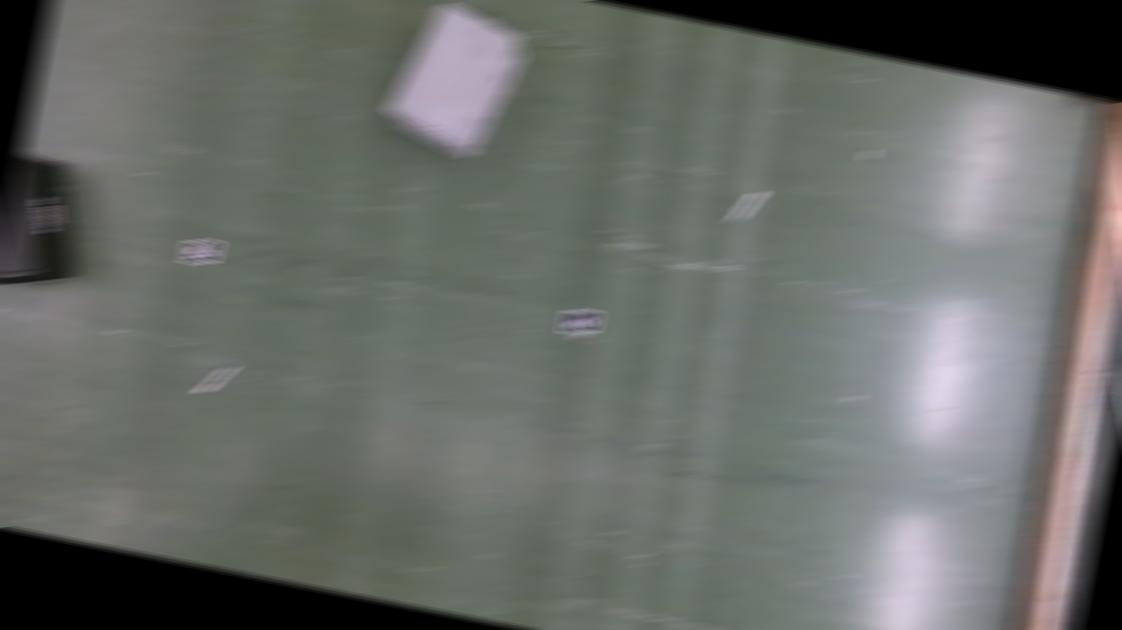probes: (194, 360, 236, 398), (727, 186, 763, 226)
rako: (377, 0, 531, 166), (0, 151, 99, 301)
